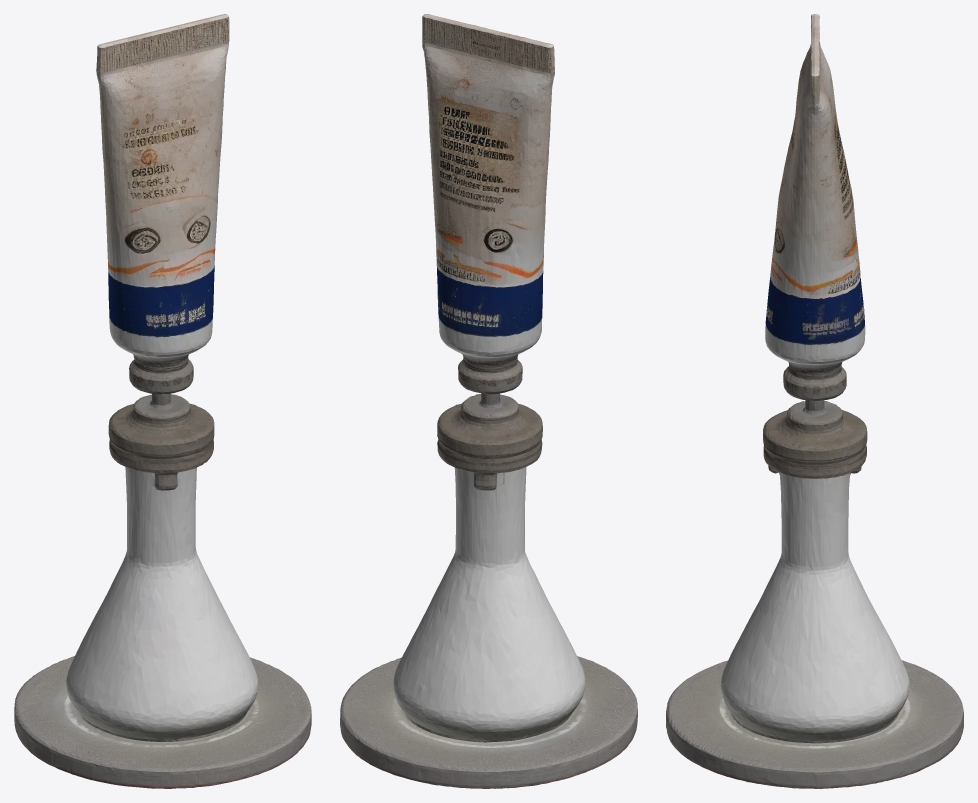
File: belly (239).glb
3 views of the same model, side by side, from view 1: azimuth 30°, elevation 25°; view 2: azimuth 150°, elevation 25°; view 3: azimuth 270°, elevation 25° (orthographic).
Visible parts, largest first — view 1: Hy21_Mesh.obj; view 2: Hy21_Mesh.obj; view 3: Hy21_Mesh.obj.
Boxes of the visible parts, x1,y1,x2,y2 form: Hy21_Mesh.obj: (14, 14, 311, 788); Hy21_Mesh.obj: (340, 14, 637, 788); Hy21_Mesh.obj: (666, 14, 963, 788).
Bounding box in the file's own units: 0.7541 × 1.96 × 0.7713.
1 material, 1 textured.
